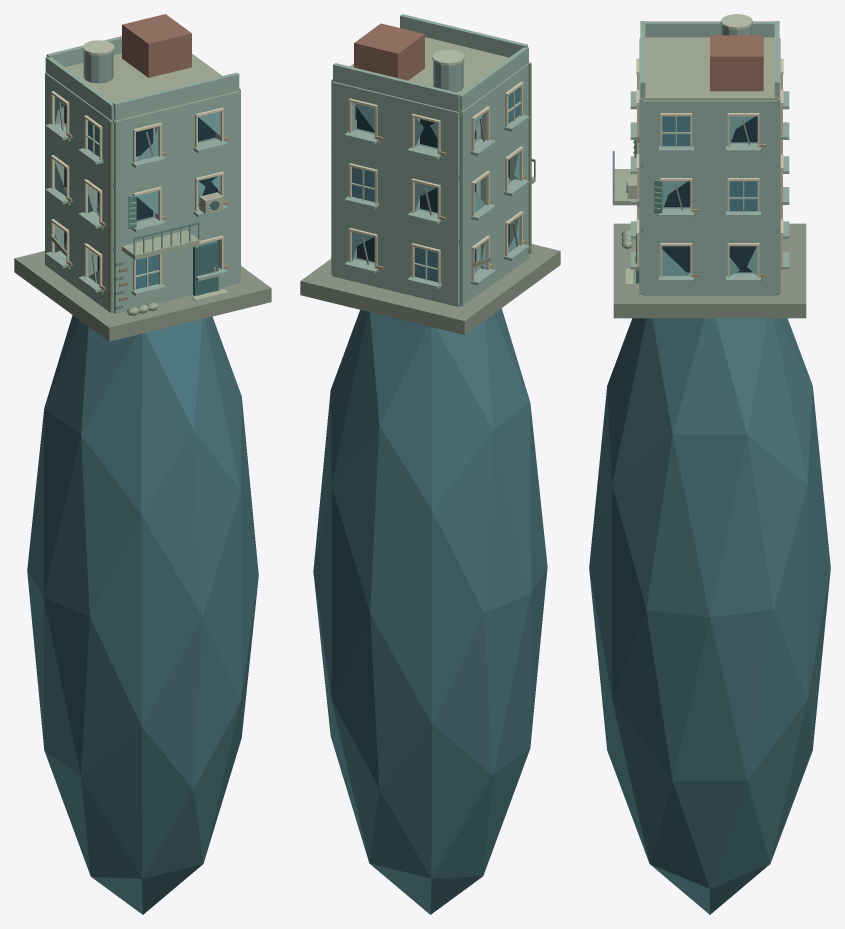
The model's file is house_08.glb.
3 renders of one model, left to right at view 1: azimuth 30°, elevation 25°; view 2: azimuth 150°, elevation 25°; view 3: azimuth 270°, elevation 25°, orthographic.
Parts seen in each view (by area): view 1: house_08; view 2: house_08; view 3: house_08.
Boxes of the visible parts, <box> form: house_08: <box>14,14,271,914</box>; house_08: <box>300,14,560,914</box>; house_08: <box>589,14,830,914</box>.
Bounding box in the file's own units: 10.4 × 43.5 × 10.8.
